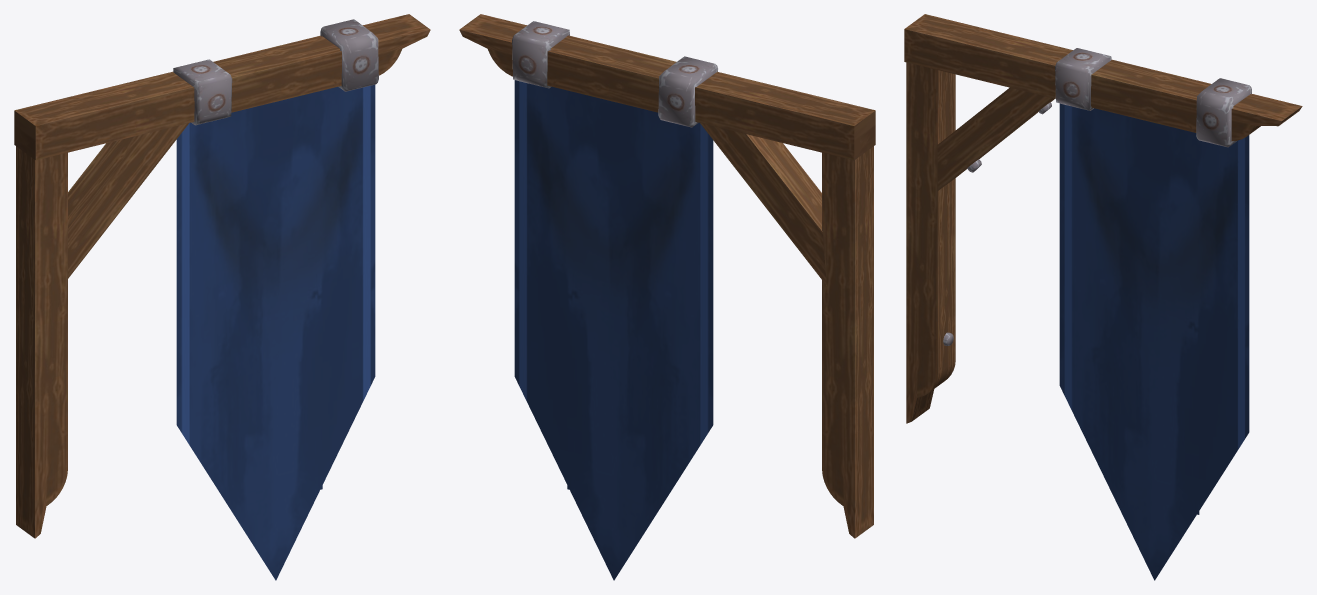
The model's file is Banner_2.gltf.
3 views of the same model, side by side, from view 1: azimuth 30°, elevation 25°; view 2: azimuth 150°, elevation 25°; view 3: azimuth 330°, elevation 25° (orthographic). The views are drawn at different scales.
Parts seen in each view (by area): view 1: Banner_2; view 2: Banner_2; view 3: Banner_2.
Part boxes in pixels (<box>): Banner_2: <box>14,14,430,580</box>; Banner_2: <box>459,14,875,580</box>; Banner_2: <box>904,14,1302,580</box>.
Bounding box in the file's own units: 1.61 × 2.08 × 0.1906.
Materials: 3 (3 with a texture image).
